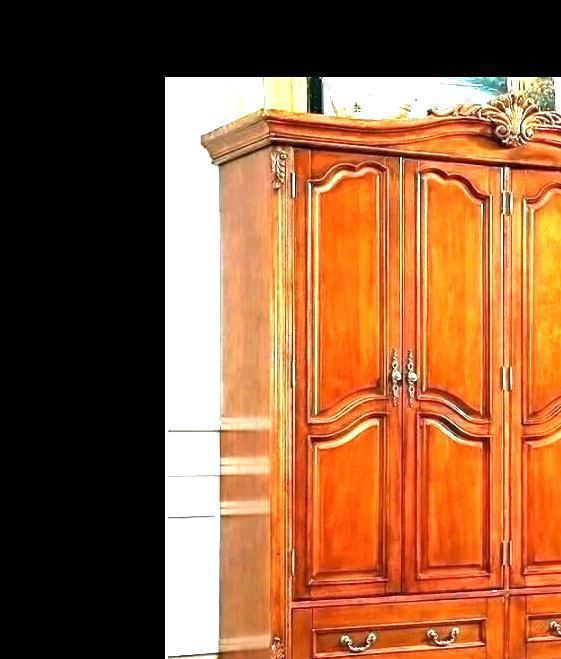Armario: (190, 109, 561, 659)
